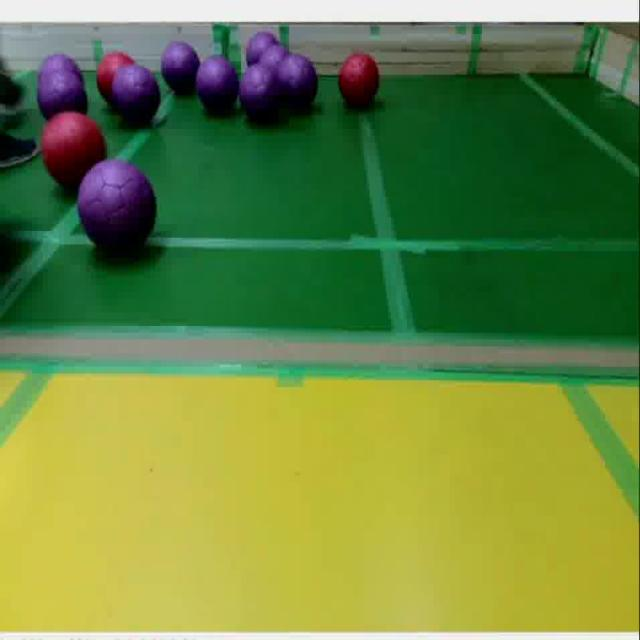purple_ball: (84, 167, 157, 257), (238, 64, 285, 127), (115, 66, 161, 130), (197, 55, 238, 115), (278, 56, 320, 113), (160, 43, 201, 94), (38, 70, 85, 110), (245, 34, 280, 69), (259, 45, 293, 77), (38, 53, 80, 74)
red_ball: (44, 114, 90, 174), (338, 54, 381, 112), (94, 52, 111, 98)
